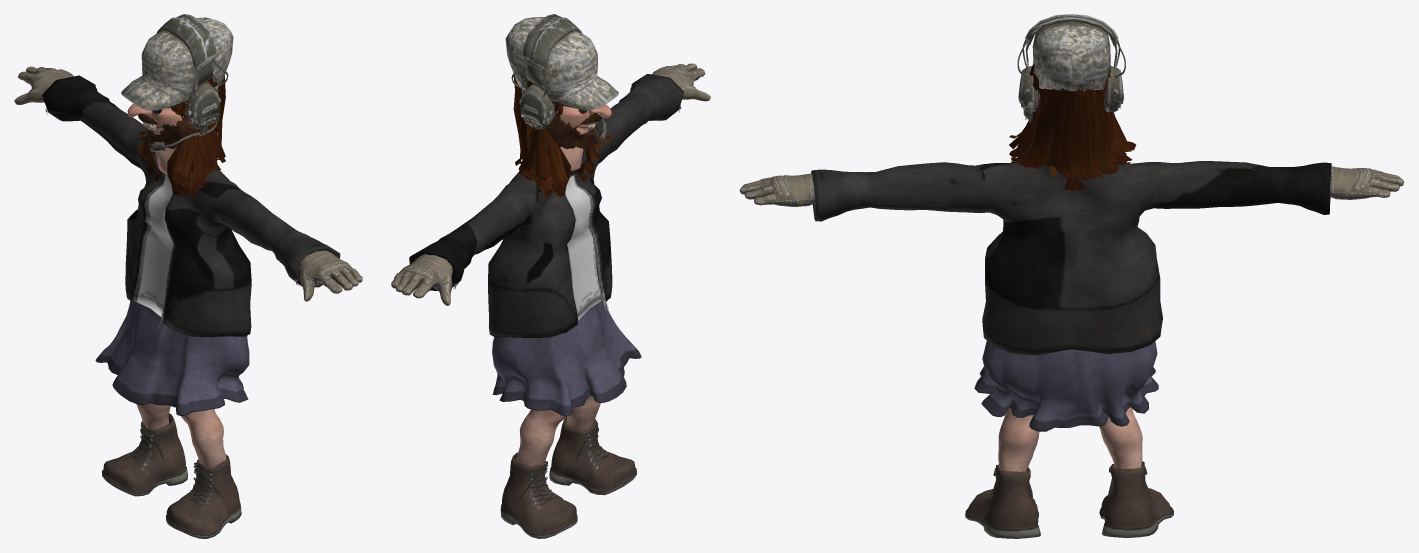
Rendered from Beautiful Mans.fbx.
3 renders of one model, left to right at view 1: azimuth 30°, elevation 25°; view 2: azimuth 150°, elevation 25°; view 3: azimuth 270°, elevation 25°, orthographic. The views are drawn at different scales.
Visible parts, largest first — view 1: Tops, Bottoms, Hats, Shoes, Hair, Body, Gloves, Beards; view 2: Tops, Bottoms, Hats, Shoes, Hair, Body, Gloves, Beards; view 3: Tops, Bottoms, Hair, Hats, Shoes, Gloves, Body.
Part boxes in pixels (box(x1,y1,x2,y2)): Tops: box(42, 75, 340, 336); Bottoms: box(95, 301, 249, 415); Hats: box(121, 14, 233, 151); Shoes: box(102, 413, 241, 538); Hair: box(137, 75, 225, 196); Body: box(127, 103, 226, 467); Gloves: box(14, 66, 362, 301); Beards: box(146, 117, 195, 148); Tops: box(409, 74, 683, 337); Bottoms: box(492, 301, 641, 416); Hats: box(505, 14, 618, 140); Shoes: box(500, 416, 636, 538); Hair: box(513, 76, 611, 197); Body: box(516, 104, 611, 466); Gloves: box(391, 63, 710, 305); Beards: box(545, 111, 590, 150); Tops: box(811, 161, 1331, 355); Bottoms: box(974, 341, 1158, 431); Hair: box(1009, 63, 1136, 190); Hats: box(1017, 14, 1125, 122); Shoes: box(965, 461, 1173, 538); Gloves: box(739, 166, 1404, 206); Body: box(998, 93, 1142, 471).
Size of the model in its own units: 2.02 by 8.35 by 9.69.
1 material, 1 textured.
